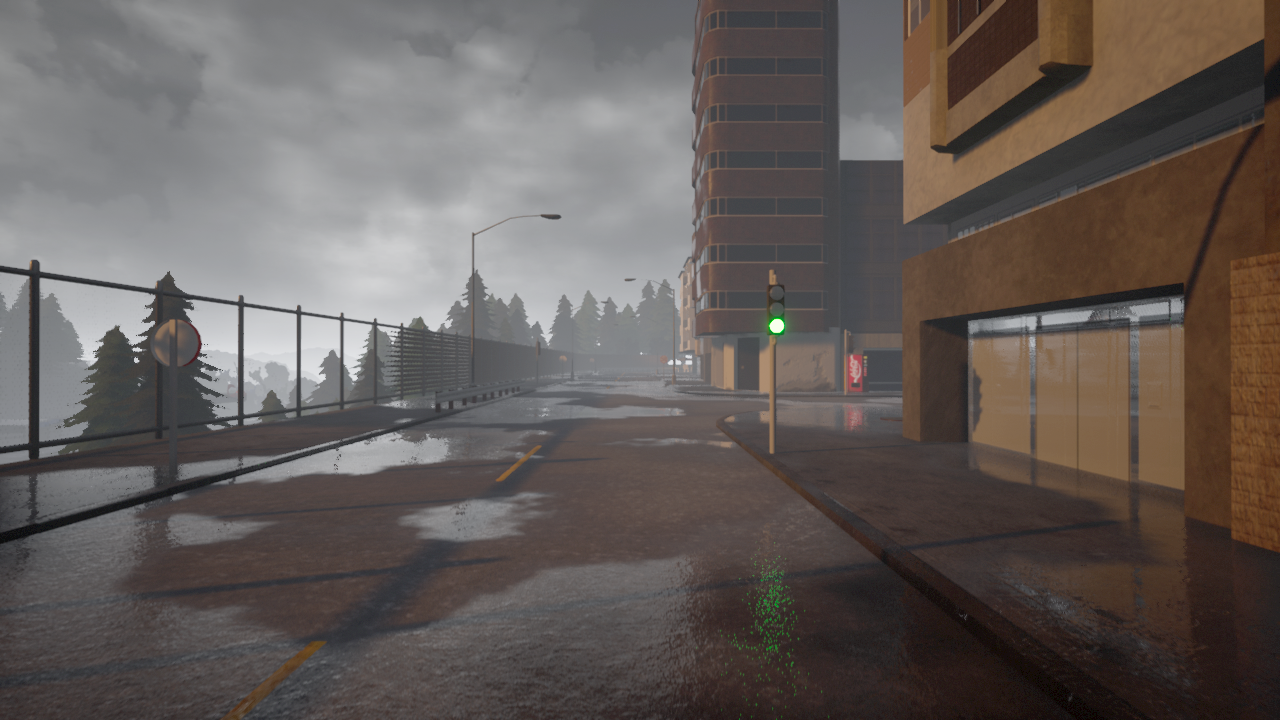green: (766, 283, 785, 335)
